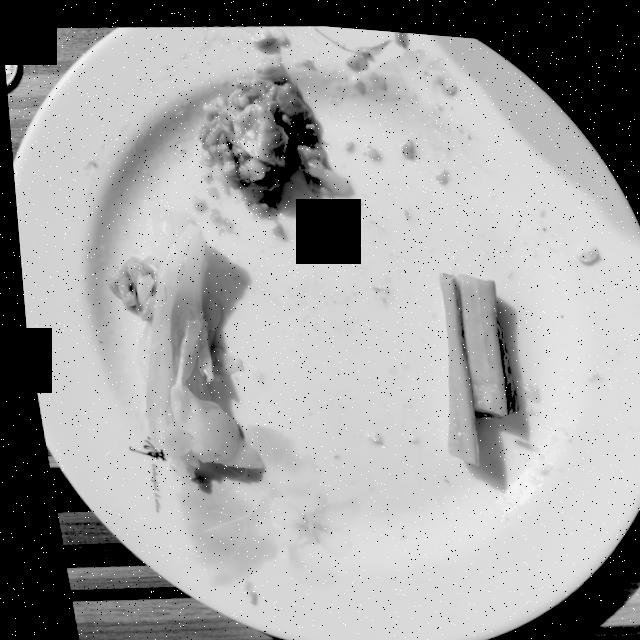Kabayaki sea bream fillet: (194, 48, 347, 213)
cabbage: (102, 199, 254, 476)
coin: (2, 35, 17, 84)
cucumber: (435, 264, 512, 456)
